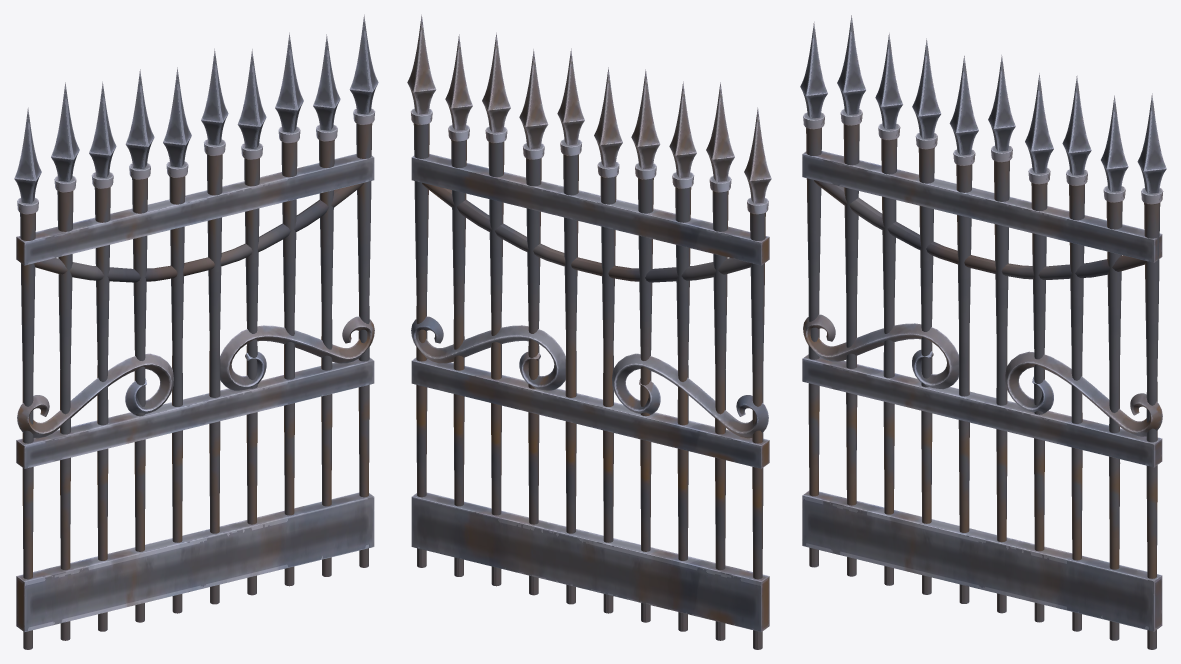
The model's file is Prop_MetalFence_Ornament.gltf.
3 renders of one model, left to right at view 1: azimuth 30°, elevation 25°; view 2: azimuth 150°, elevation 25°; view 3: azimuth 330°, elevation 25°, orthographic.
Parts seen in each view (by area): view 1: Prop_MetalFence_Ornament; view 2: Prop_MetalFence_Ornament; view 3: Prop_MetalFence_Ornament.
Part boxes in pixels (x1=…): Prop_MetalFence_Ornament: x1=14, y1=14, x2=378, y2=649; Prop_MetalFence_Ornament: x1=407, y1=14, x2=771, y2=649; Prop_MetalFence_Ornament: x1=800, y1=15, x2=1166, y2=649.
Bounding box in the file's own units: 1.95 × 2.85 × 0.1561.
Materials: 1 (1 with a texture image).
